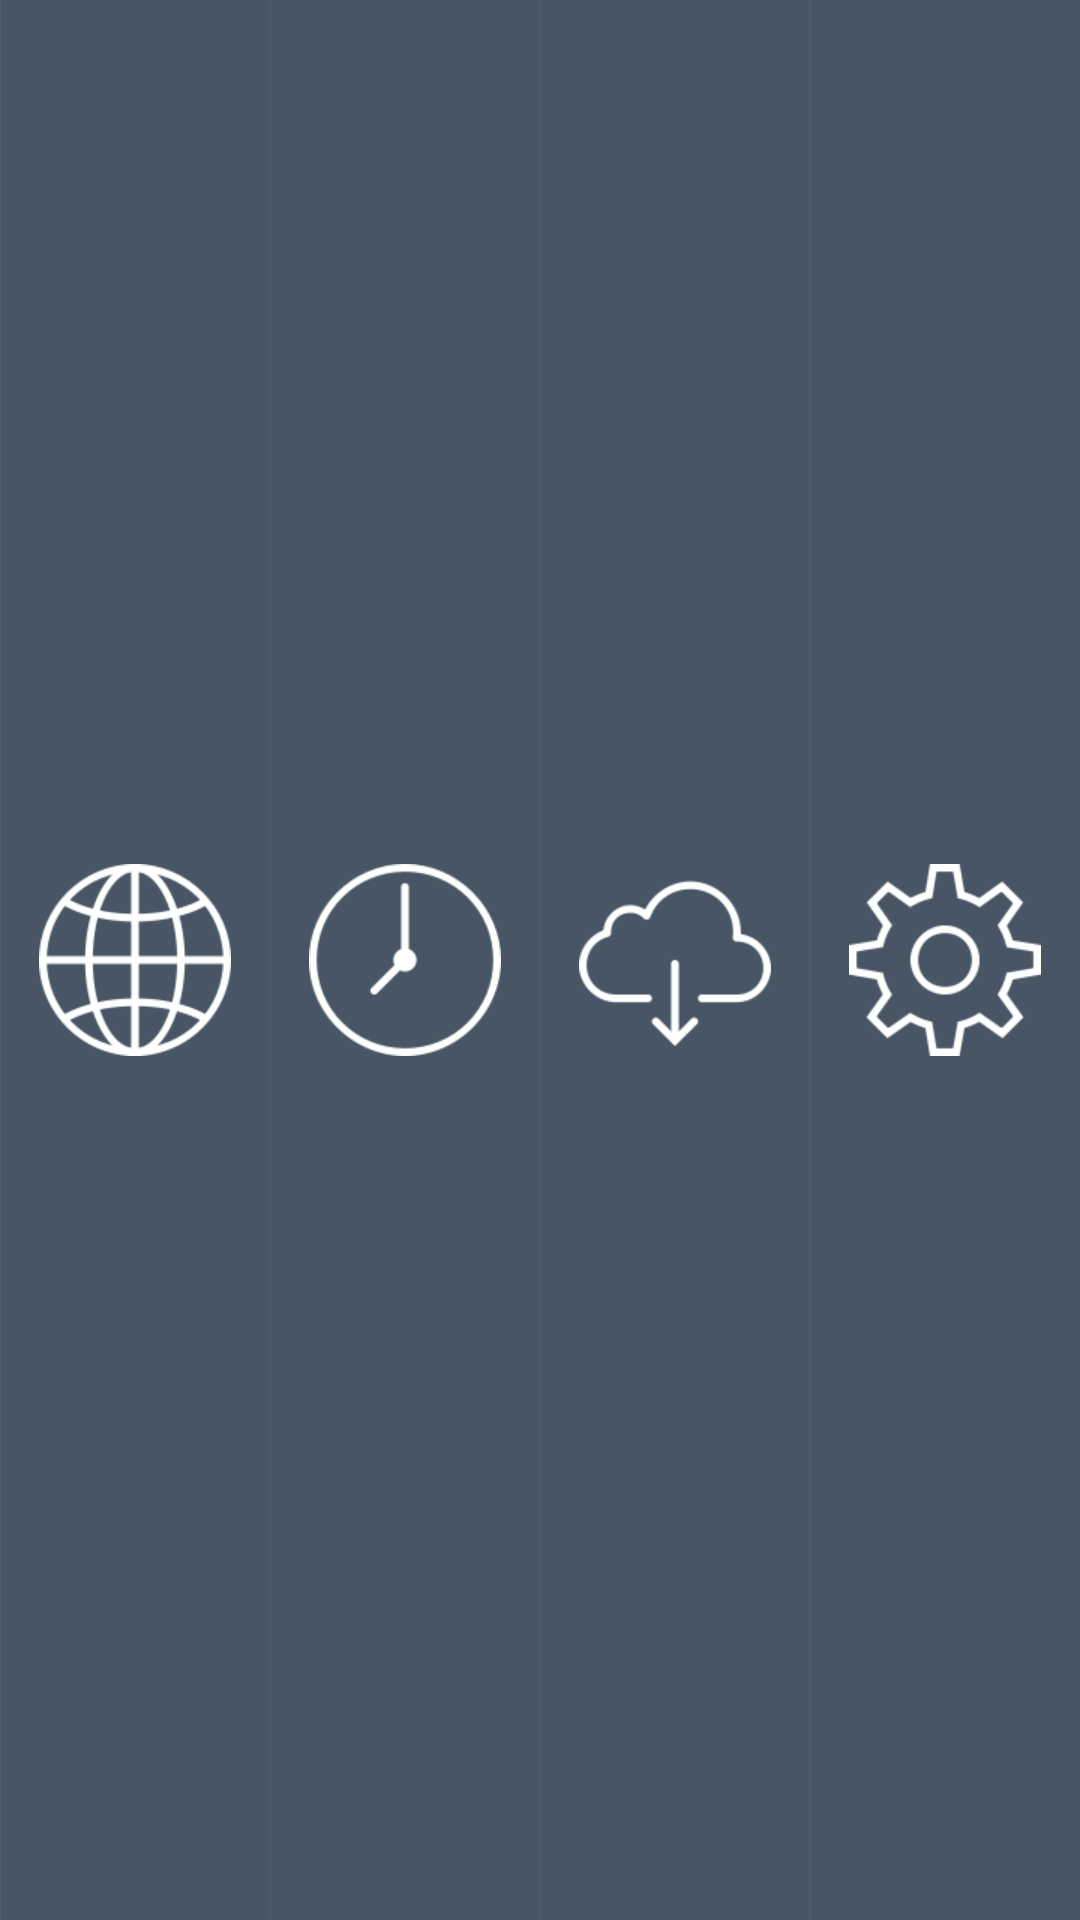

Screen size 1080x1920. Icon name, then its box in pixels as (x1, y1, x2, y2):
流量: (579, 880, 771, 1046)
网站: (39, 864, 231, 1056)
设置: (849, 864, 1041, 1056)
